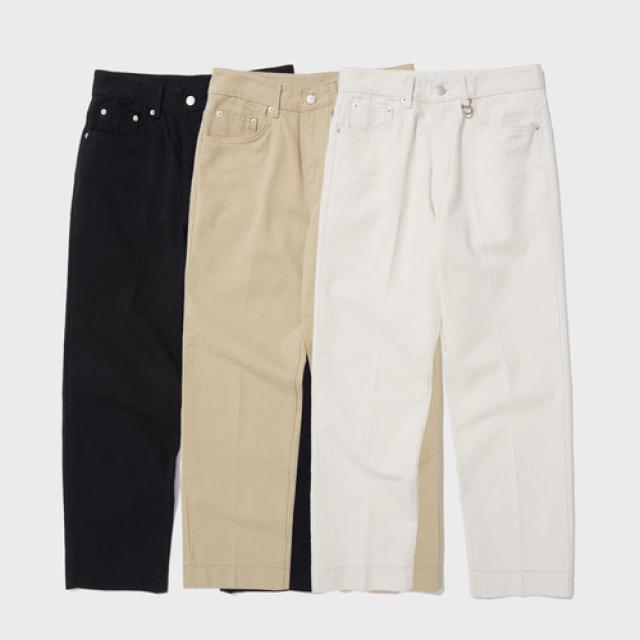dress: (64, 68, 331, 601)
